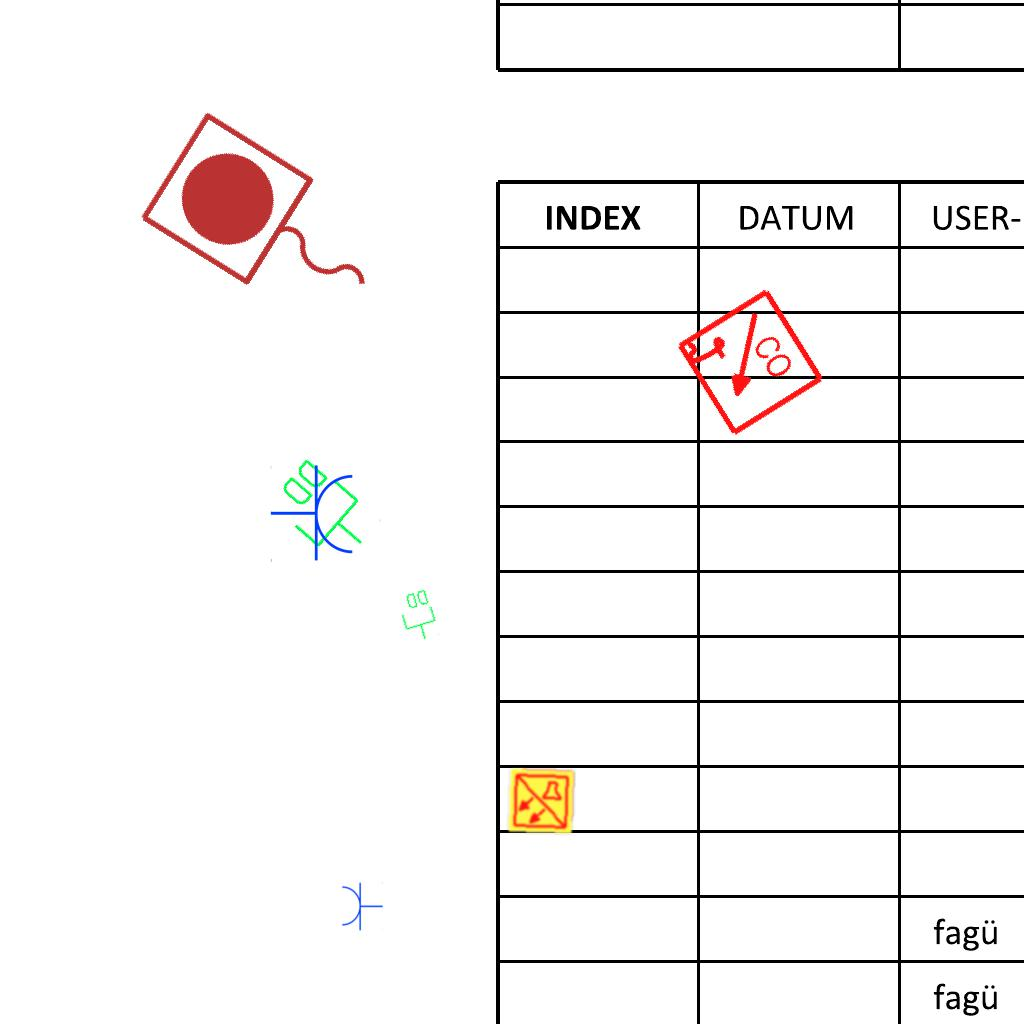Datenanschluss_zweifach: (262, 450, 387, 571), (394, 586, 443, 646)
OKW_Multisensormelder_(Kombination_optischer_Rauch-Kahlenmonoxid_Waerme-Melder): (506, 766, 576, 836)
ROA_Rauchmelder_optisch_mit_Signalgeber_(Sockelsirene): (671, 285, 828, 442)
Schukosteckdose_einfach: (270, 464, 357, 564), (340, 881, 383, 931)
Zugtaster: (127, 101, 411, 353)
